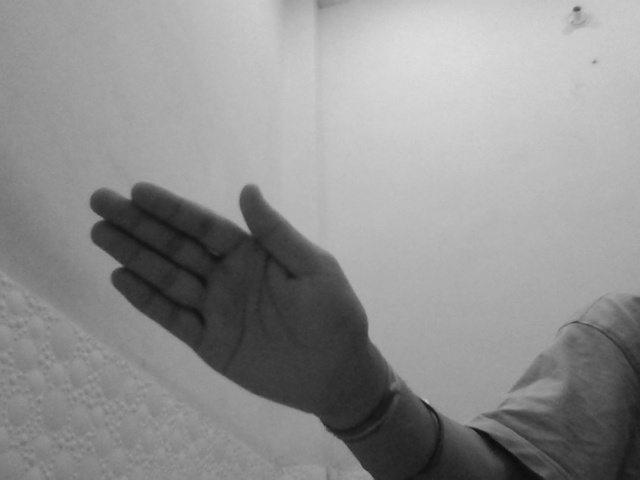Hello: (82, 179, 374, 426)
